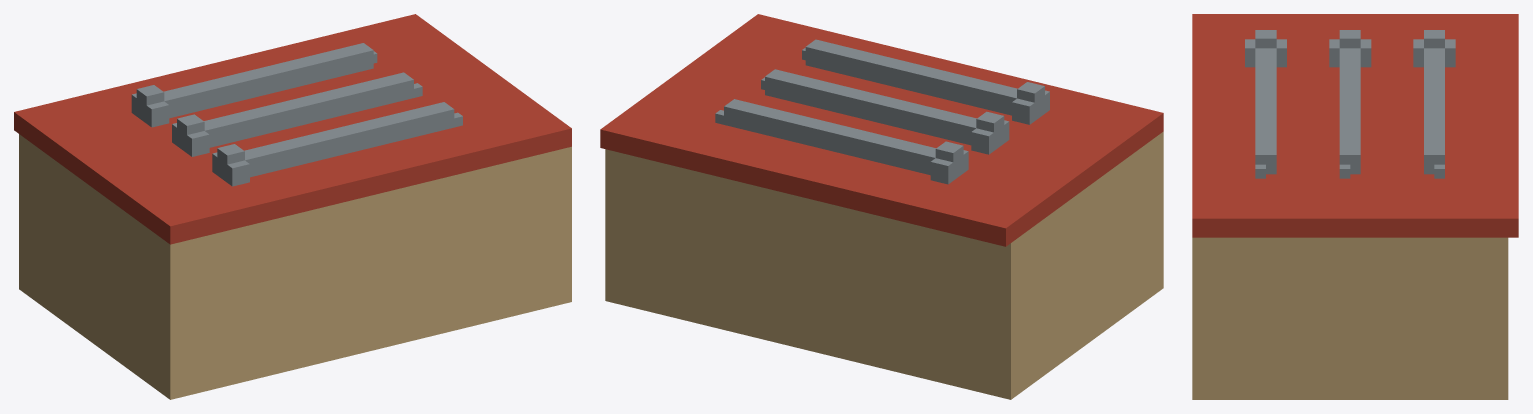
The model's file is fastener_pack.glb.
3 renders of one model, left to right at view 1: azimuth 30°, elevation 25°; view 2: azimuth 150°, elevation 25°; view 3: azimuth 270°, elevation 25°, orthographic. The views are drawn at different scales.
Visible parts, largest first — view 1: fastener_pack:compound; view 2: fastener_pack:compound; view 3: fastener_pack:compound.
Part boxes in pixels (x1=…): fastener_pack:compound: x1=14, y1=14, x2=571, y2=399; fastener_pack:compound: x1=600, y1=14, x2=1163, y2=399; fastener_pack:compound: x1=1192, y1=14, x2=1518, y2=399.
Size of the model in its own units: 0.092 by 0.044 by 0.062.
